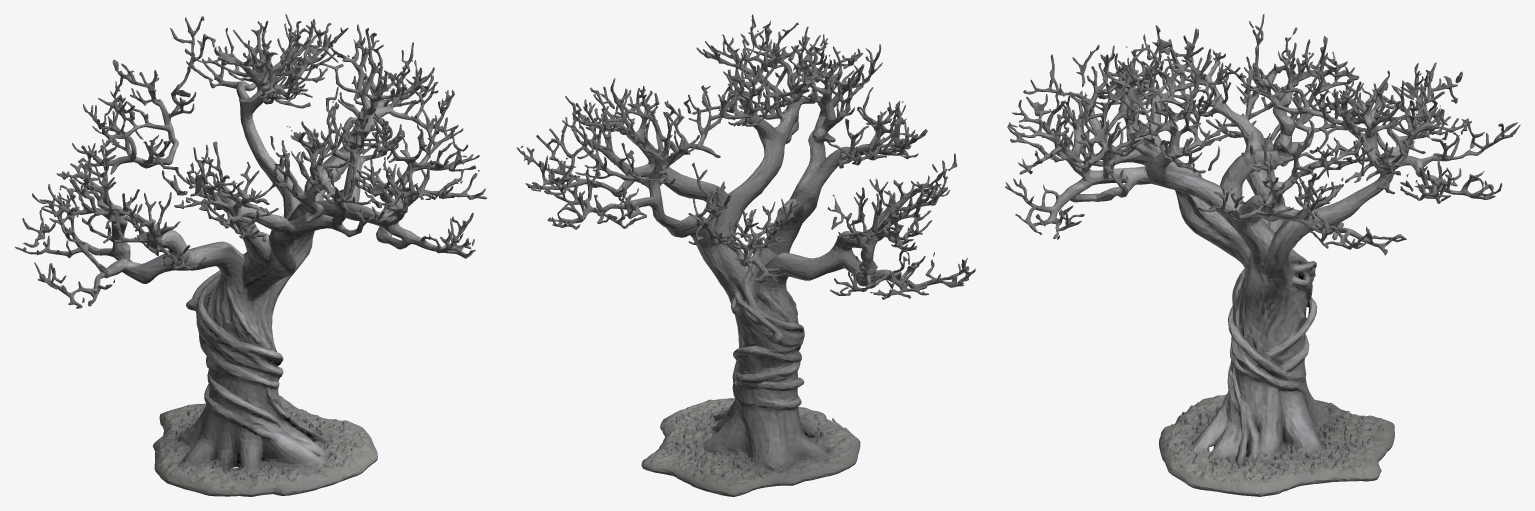
File: bog_dead_tree_02.glb
3 renders of one model, left to right at view 1: azimuth 30°, elevation 25°; view 2: azimuth 150°, elevation 25°; view 3: azimuth 270°, elevation 25°, orthographic. The views are drawn at different scales.
Visible parts, largest first — view 1: geometry_0; view 2: geometry_0; view 3: geometry_0.
Boxes of the visible parts, x1,y1,x2,y2 form: geometry_0: [15, 14, 487, 496]; geometry_0: [516, 14, 975, 496]; geometry_0: [1005, 14, 1520, 496].
Bounding box in the file's own units: 1 × 0.8578 × 0.9936.
Materials: 1 (1 with a texture image).
